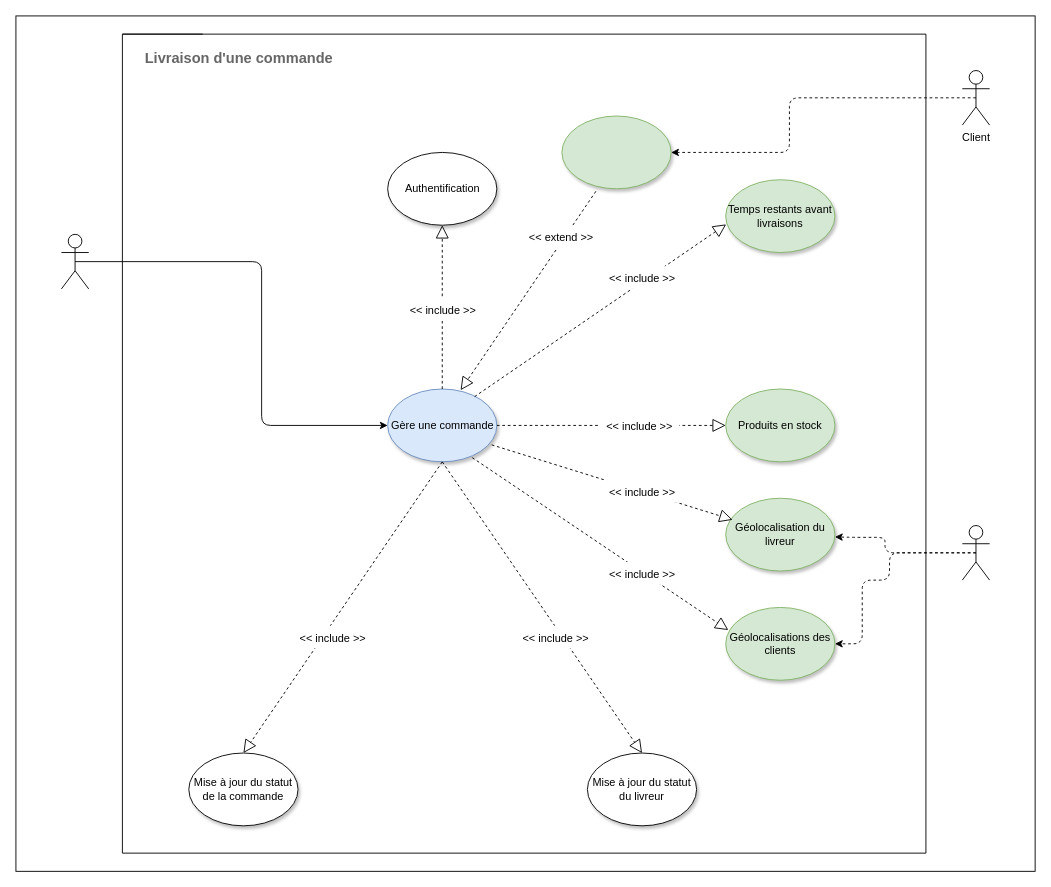
Some shapes in this 1051 by 887 pixel diagram are drawn without their labels. The centre of each missing label's shape, as x and y in pixels:
"Commandes des clients" goes at point 617,153.
"Géolocalisation" goes at point 975,552.
"Livreur" goes at point 75,261.
